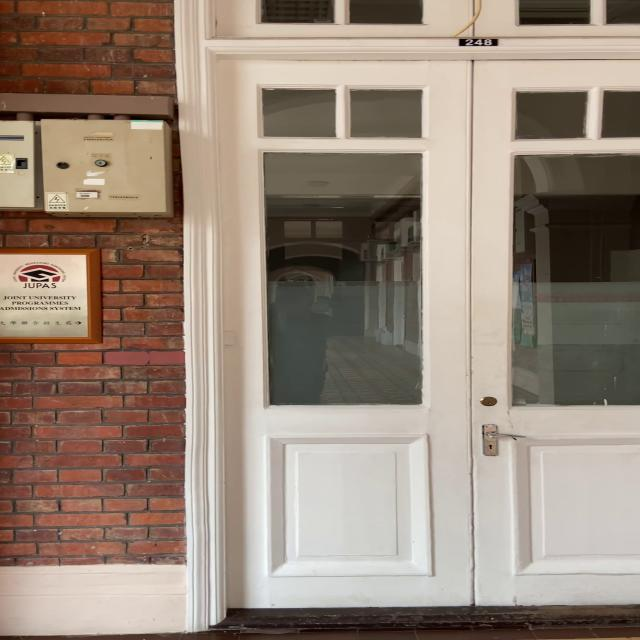room248: (458, 34, 500, 50)
